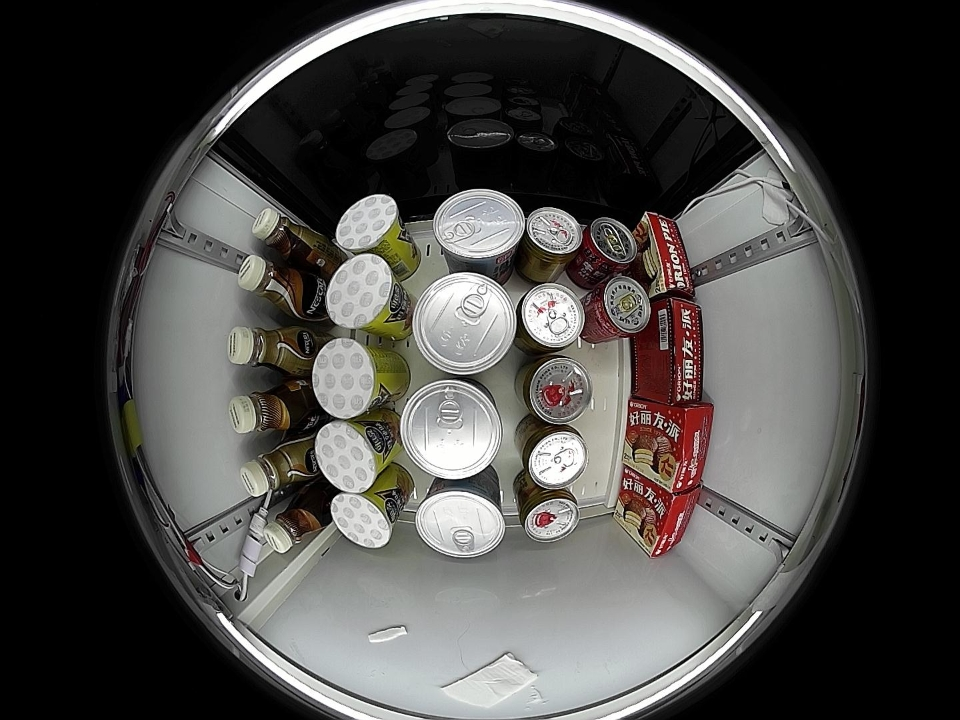haitai: (412, 271, 518, 376), (399, 376, 504, 481), (432, 188, 525, 271), (415, 478, 506, 559)
haoliyou: (642, 297, 704, 403), (649, 402, 714, 494), (638, 211, 695, 299), (635, 485, 700, 559)
hongniu: (519, 355, 593, 424), (518, 488, 580, 544)
hongniu2: (514, 283, 585, 353), (519, 423, 589, 490), (521, 206, 582, 271)
kafei: (236, 255, 318, 319), (239, 438, 315, 499), (226, 324, 313, 377), (228, 381, 308, 436), (251, 208, 323, 268), (263, 491, 328, 554)
kebike: (311, 337, 392, 419), (324, 253, 404, 332), (314, 419, 387, 493), (335, 194, 407, 258), (330, 487, 400, 548)
wangzainiunai: (584, 275, 651, 342), (577, 216, 638, 278)
